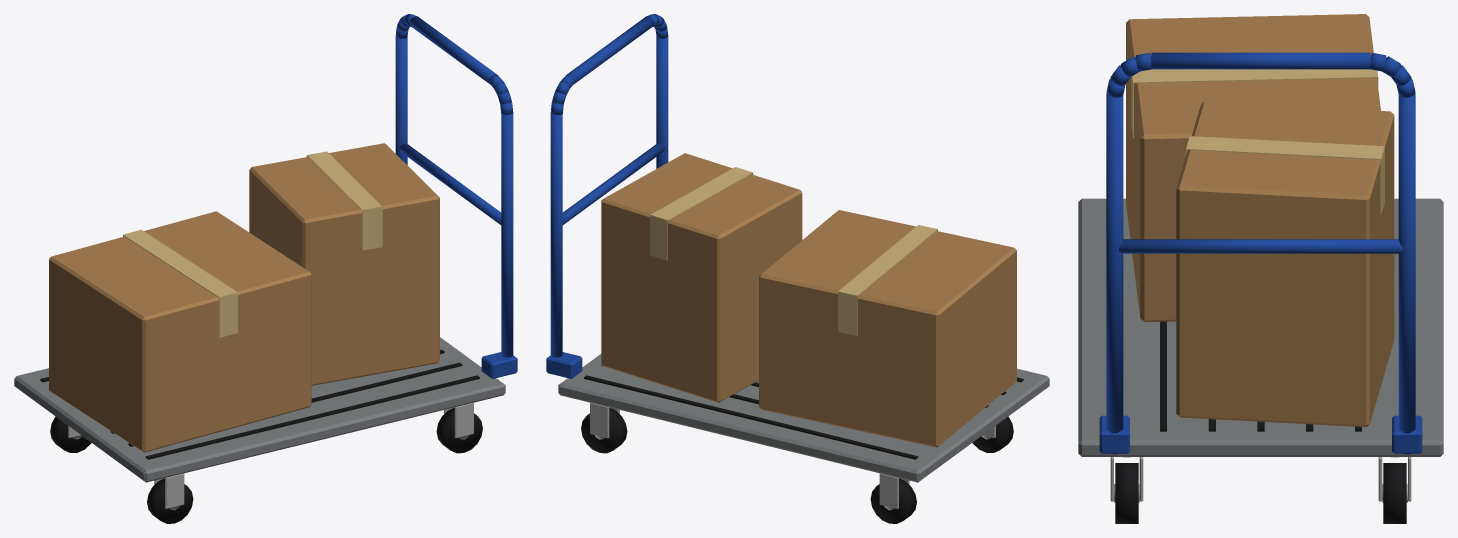
File: CarrinhoDeEstoque.fbx
3 renders of one model, left to right at view 1: azimuth 30°, elevation 25°; view 2: azimuth 150°, elevation 25°; view 3: azimuth 270°, elevation 25°, orthographic. The views are drawn at different scales.
Visible parts, largest first — view 1: CarrinhoDeEstoque; view 2: CarrinhoDeEstoque; view 3: CarrinhoDeEstoque.
Part boxes in pixels (box(x1,y1,x2,y2)): CarrinhoDeEstoque: box(14, 14, 517, 523); CarrinhoDeEstoque: box(546, 14, 1049, 523); CarrinhoDeEstoque: box(1078, 14, 1443, 523).
Bounding box in the file's own units: 1 × 0.9 × 0.6.
